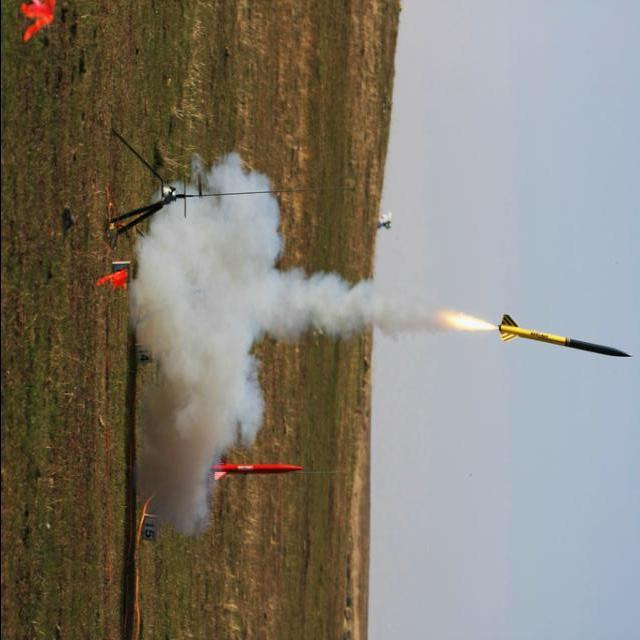missile: (486, 308, 638, 364), (207, 454, 304, 480)
